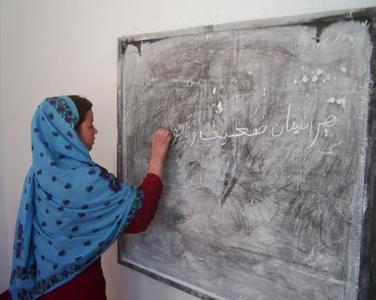person: (10, 95, 171, 300)
